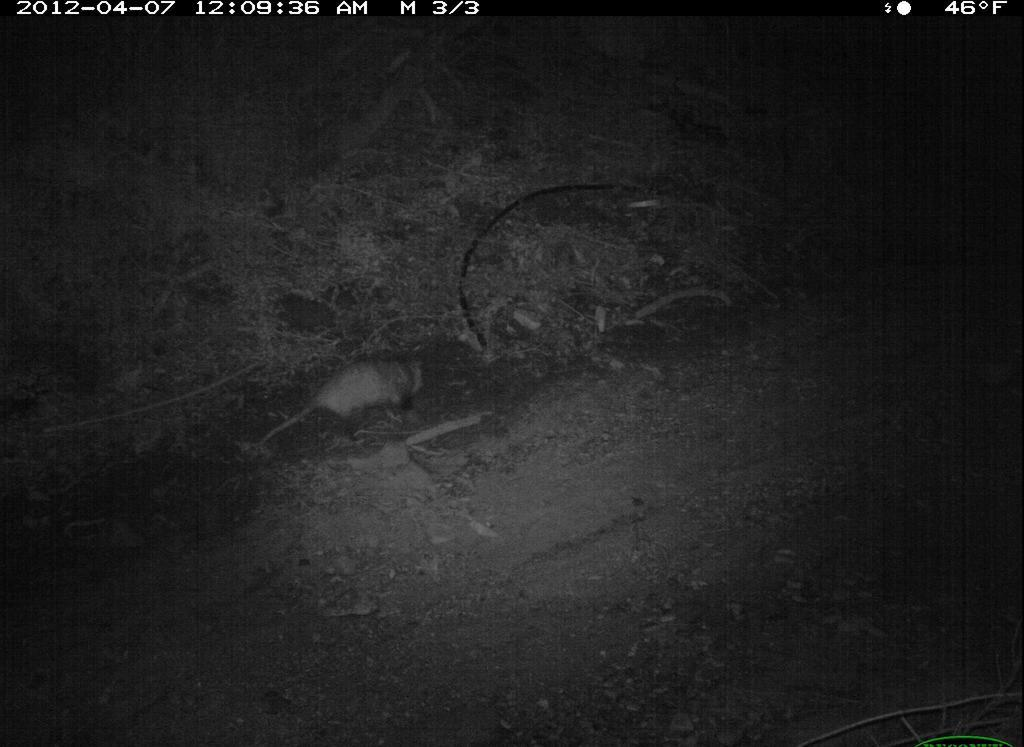opossum: (239, 336, 454, 459)
